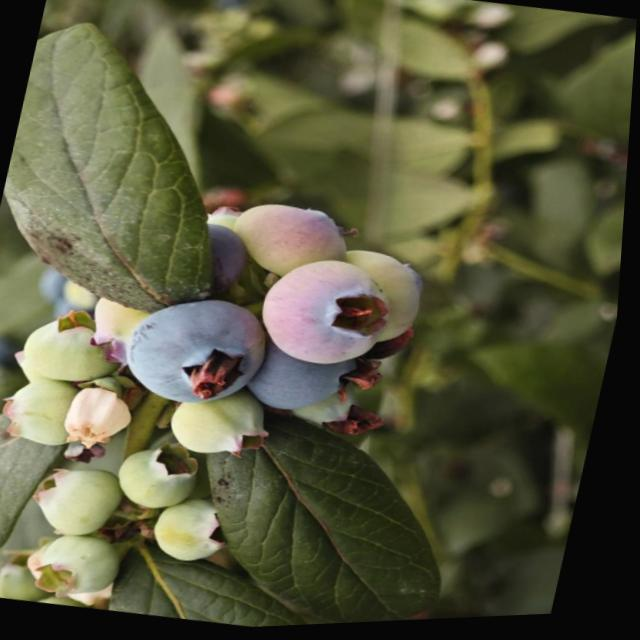RipeBlueBerry: (117, 287, 280, 421)
Semi-RipeBlueBerry: (253, 250, 407, 380)
